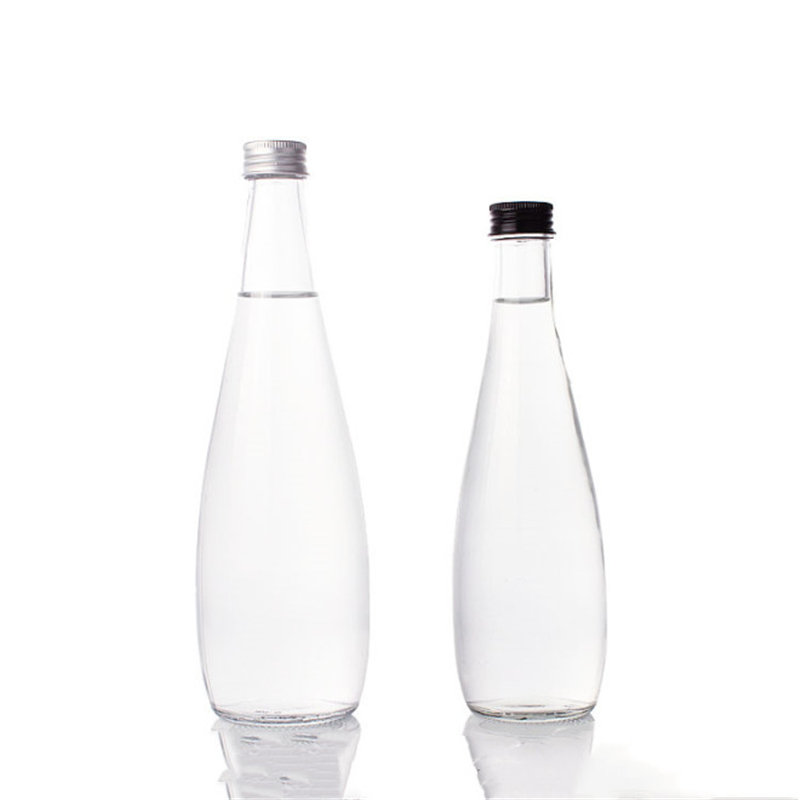glass_bottle: (172, 134, 385, 726), (443, 190, 616, 730)
